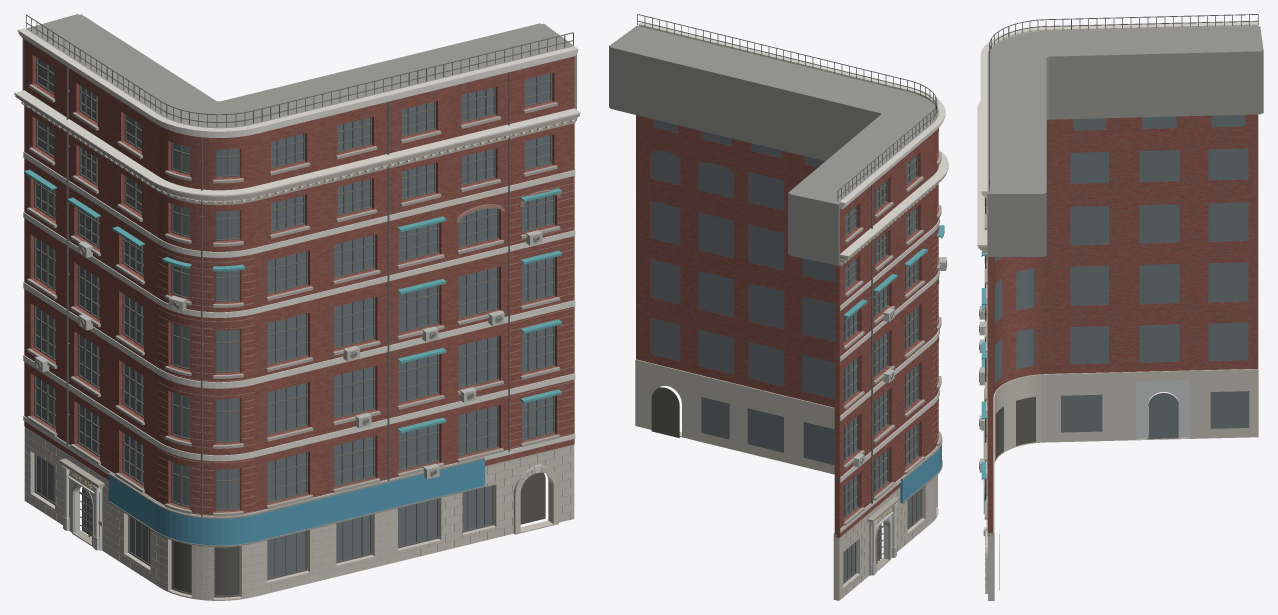
Rendered from huangpu-arnhold-building-southwest-corner-web.glb.
3 views of the same model, side by side, from view 1: azimuth 30°, elevation 25°; view 2: azimuth 150°, elevation 25°; view 3: azimuth 270°, elevation 25° (orthographic). The views are drawn at different scales.
Visible parts, largest first — view 1: 安利大楼西南转角入口与两街红砖窗带; view 2: 安利大楼西南转角入口与两街红砖窗带; view 3: 安利大楼西南转角入口与两街红砖窗带.
Part boxes in pixels (<box>): 安利大楼西南转角入口与两街红砖窗带: <box>14,14,580,600</box>; 安利大楼西南转角入口与两街红砖窗带: <box>609,14,948,600</box>; 安利大楼西南转角入口与两街红砖窗带: <box>977,14,1263,600</box>.
Bounding box in the file's own units: 23.92 × 27.32 × 16.84.
15 materials, 1 textured.
